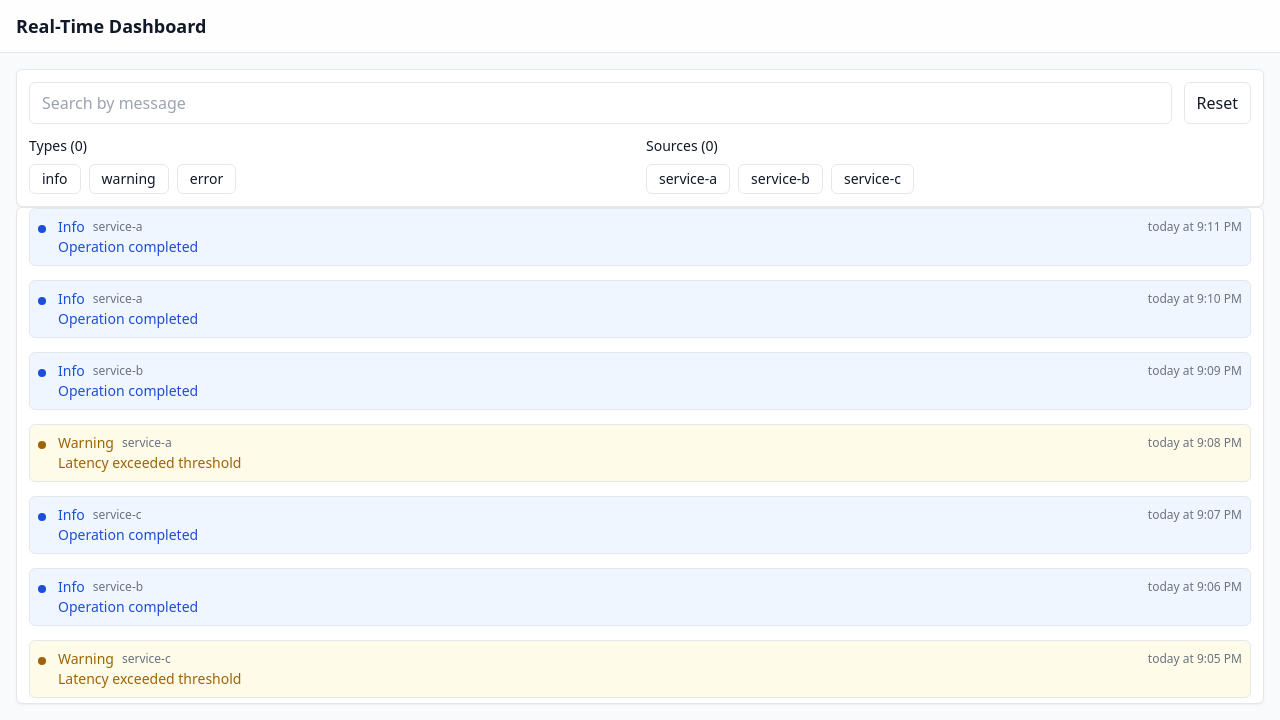
Test: Real-time Updates › should apply filters to new events
Expected: the 1st button with test id "event-row" is shown, [29, 208, 1251, 266]
Click the button with test id "error": click(207, 179) [177, 164, 236, 194]
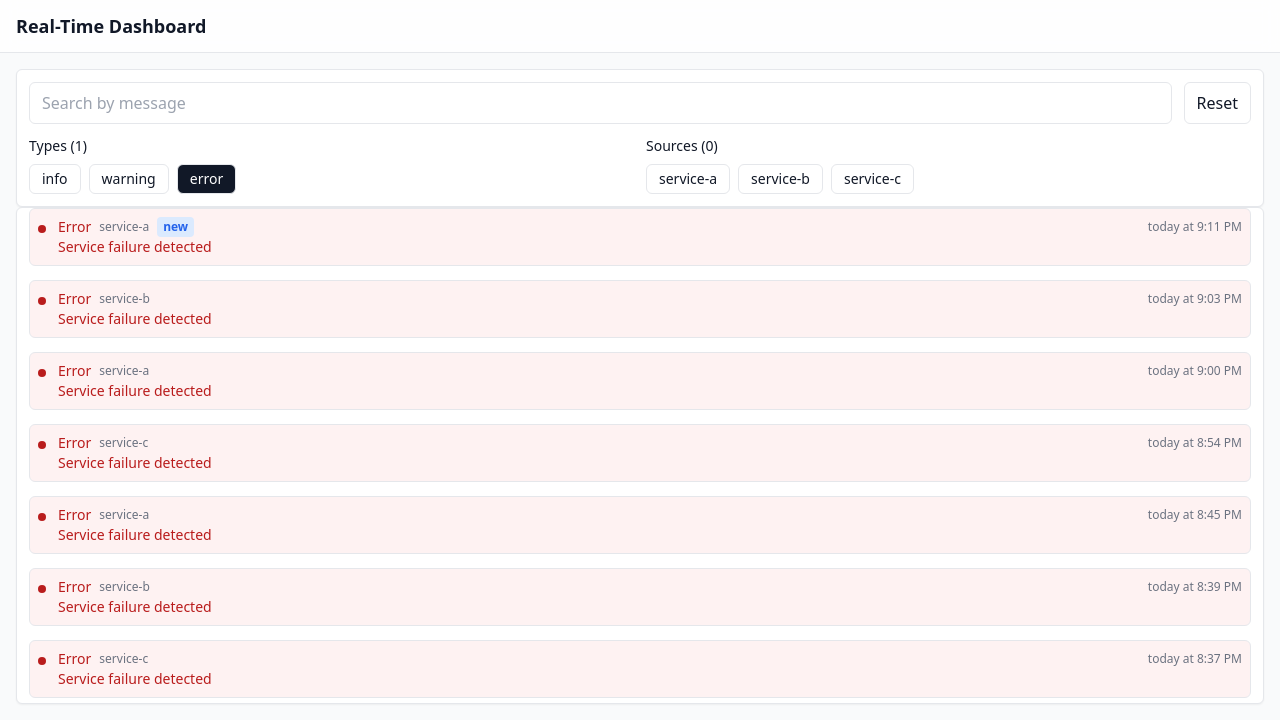
Now the button with test id "event-row" shows "error", box [29, 208, 1251, 266]
